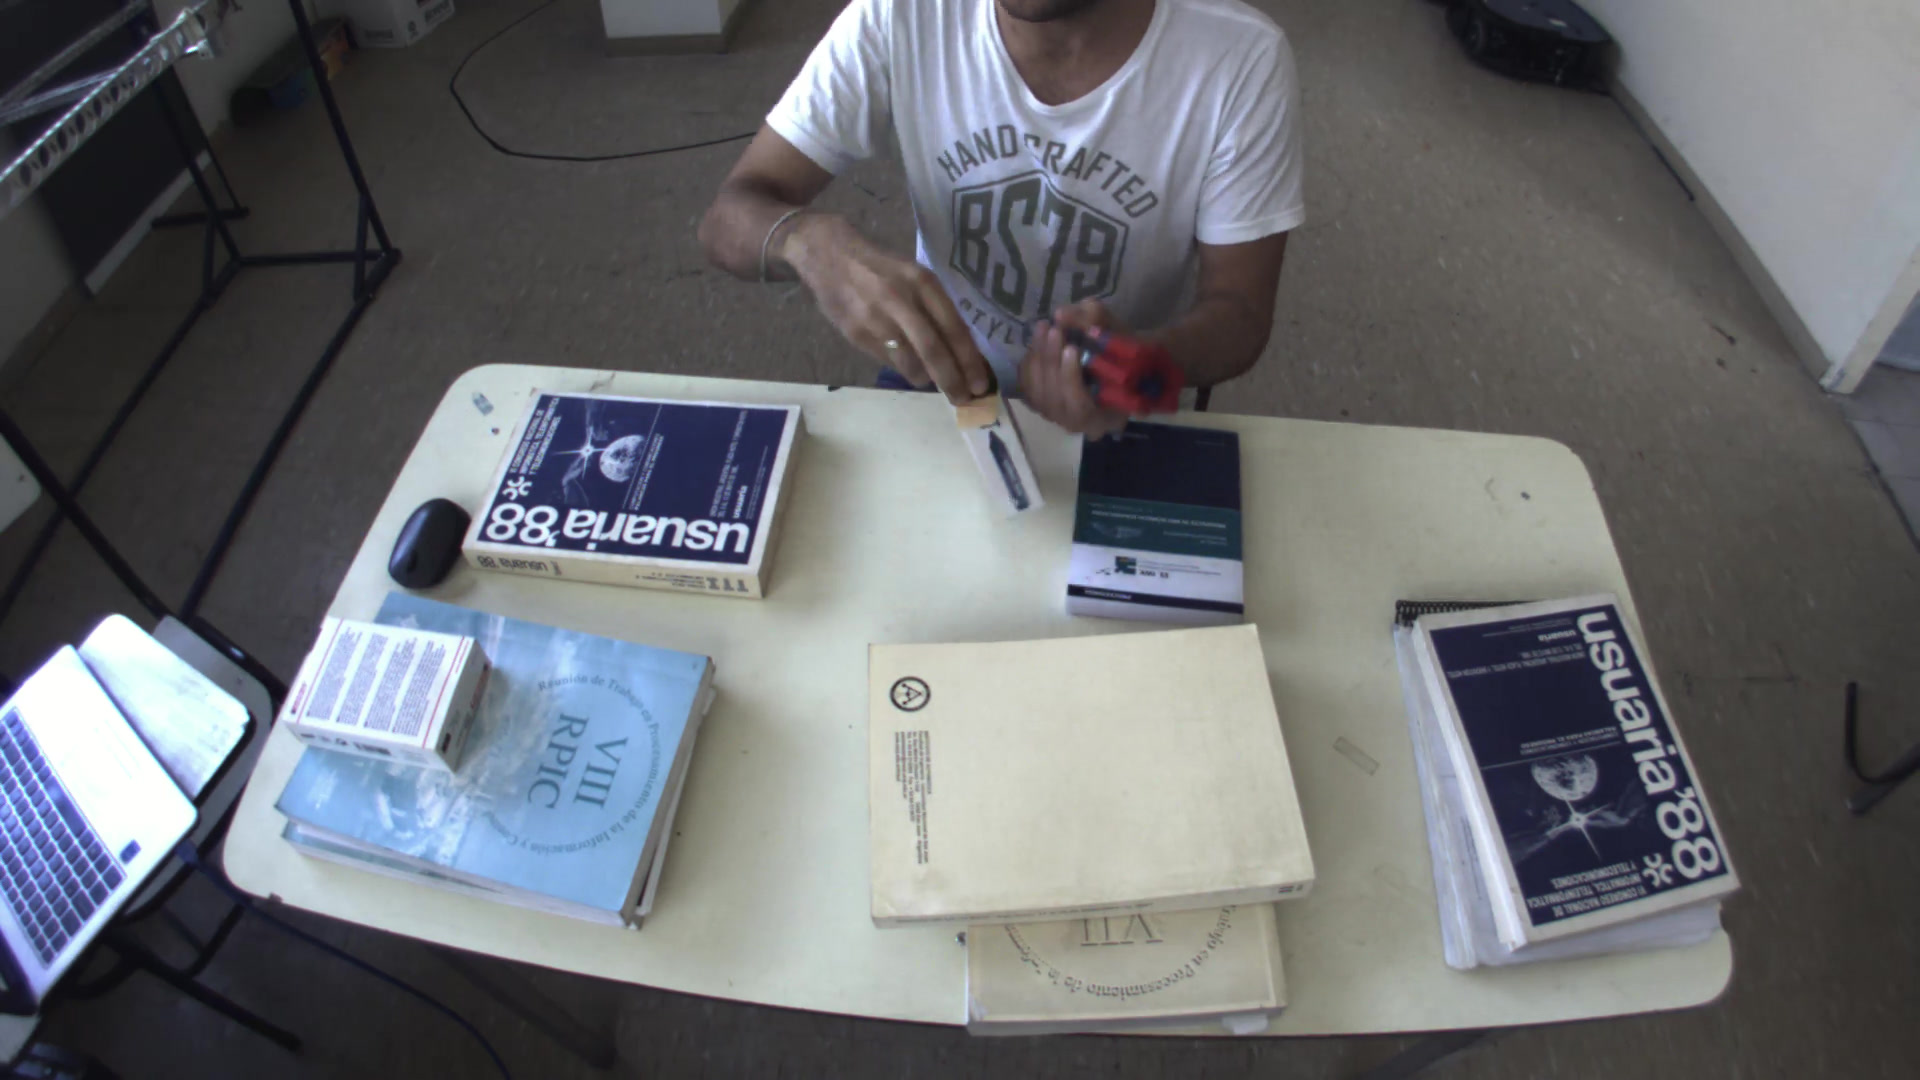hand: (766, 208, 997, 407), (1004, 293, 1196, 447)
